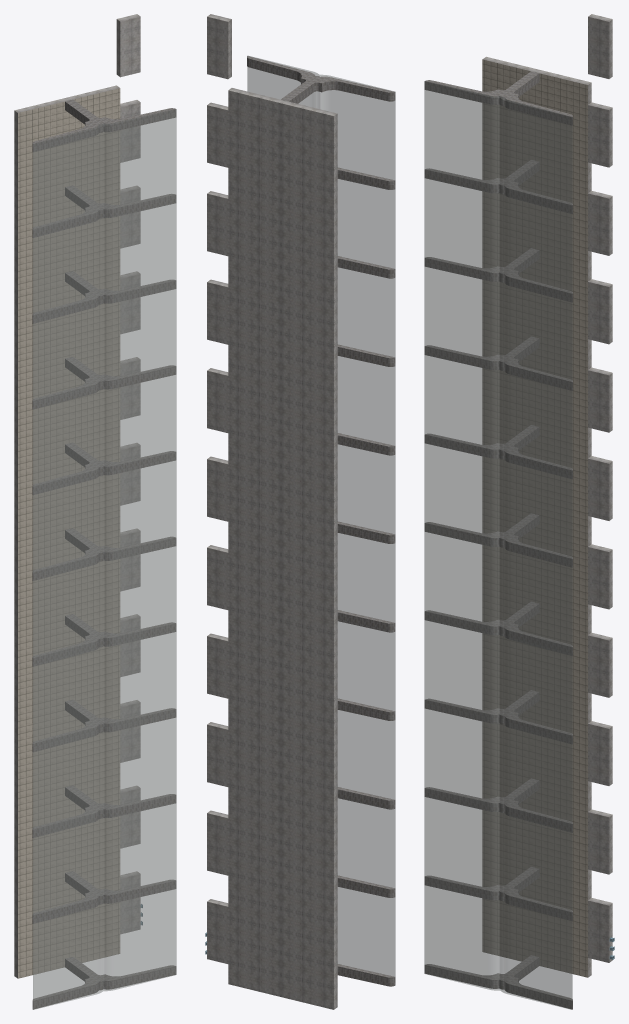
The model's file is hack.obj.
3 views of the same model, side by side, from view 1: azimuth 30°, elevation 25°; view 2: azimuth 150°, elevation 25°; view 3: azimuth 330°, elevation 25° (orthographic). The views are drawn at different scales.
Parts seen in each view (by area): view 1: STRUCTURAL_-_BEARING GLASS_-_CLEAR_FAST FLAT_PART, STRUCTURAL_-_BEARING TILES_-_TAN_30X30, STRUCTURAL_-_BEARING CONCRETE_-_10 FLAT_PART, STRUCTURAL_-_BEARING GLASS_-_CLEAR_FAST SMOOTH_PART, STRUCTURAL_-_BEARING CONCRETE_-_04, STRUCTURAL_-_BEARING CONCRETE_-_10 SMOOTH_PART; view 2: STRUCTURAL_-_BEARING CONCRETE_-_04, STRUCTURAL_-_BEARING GLASS_-_CLEAR_FAST FLAT_PART, STRUCTURAL_-_BEARING CONCRETE_-_10 FLAT_PART, STRUCTURAL_-_BEARING CONCRETE_-_10 SMOOTH_PART; view 3: STRUCTURAL_-_BEARING GLASS_-_CLEAR_FAST FLAT_PART, STRUCTURAL_-_BEARING TILES_-_TAN_30X30, STRUCTURAL_-_BEARING CONCRETE_-_10 FLAT_PART, STRUCTURAL_-_BEARING GLASS_-_CLEAR_FAST SMOOTH_PART, STRUCTURAL_-_BEARING CONCRETE_-_04, STRUCTURAL_-_BEARING CONCRETE_-_10 SMOOTH_PART.
Part boxes in pixels (x1,y1,x2,y2): STRUCTURAL_-_BEARING GLASS_-_CLEAR_FAST FLAT_PART: [33, 109, 176, 1009]; STRUCTURAL_-_BEARING TILES_-_TAN_30X30: [18, 88, 120, 978]; STRUCTURAL_-_BEARING CONCRETE_-_10 FLAT_PART: [32, 99, 176, 1009]; STRUCTURAL_-_BEARING GLASS_-_CLEAR_FAST SMOOTH_PART: [94, 124, 114, 994]; STRUCTURAL_-_BEARING CONCRETE_-_04: [14, 14, 140, 978]; STRUCTURAL_-_BEARING CONCRETE_-_10 SMOOTH_PART: [32, 119, 113, 1009]; STRUCTURAL_-_BEARING CONCRETE_-_04: [207, 14, 337, 1009]; STRUCTURAL_-_BEARING GLASS_-_CLEAR_FAST FLAT_PART: [247, 55, 395, 984]; STRUCTURAL_-_BEARING CONCRETE_-_10 FLAT_PART: [247, 56, 394, 986]; STRUCTURAL_-_BEARING CONCRETE_-_10 SMOOTH_PART: [247, 57, 395, 986]; STRUCTURAL_-_BEARING GLASS_-_CLEAR_FAST FLAT_PART: [424, 81, 572, 1009]; STRUCTURAL_-_BEARING TILES_-_TAN_30X30: [482, 59, 587, 977]; STRUCTURAL_-_BEARING CONCRETE_-_10 FLAT_PART: [424, 71, 572, 1009]; STRUCTURAL_-_BEARING GLASS_-_CLEAR_FAST SMOOTH_PART: [488, 97, 509, 993]; STRUCTURAL_-_BEARING CONCRETE_-_04: [483, 14, 612, 977]; STRUCTURAL_-_BEARING CONCRETE_-_10 SMOOTH_PART: [489, 92, 572, 1008].
Bounding box in the file's own units: 7131 × 43500 × 3330.
5 materials, 3 textured.
